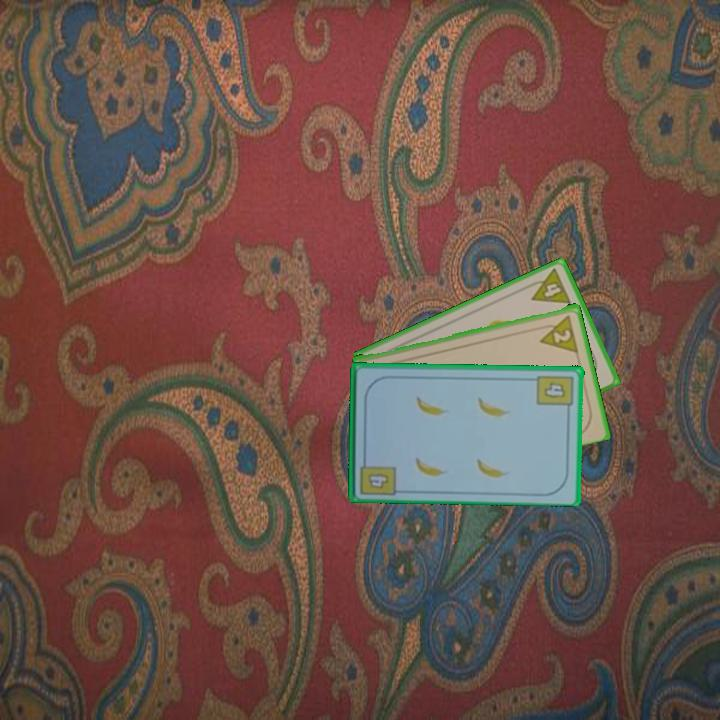2p: (534, 311, 581, 354)
4b: (534, 372, 577, 415), (356, 453, 398, 497)
4p: (523, 265, 574, 307)
